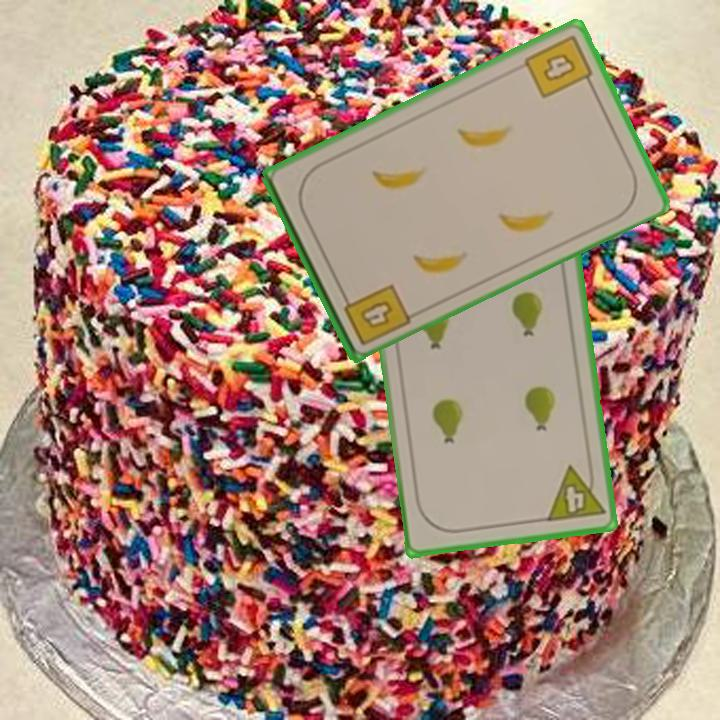4b: (520, 30, 598, 101), (338, 279, 413, 348)
4p: (543, 460, 608, 525)
